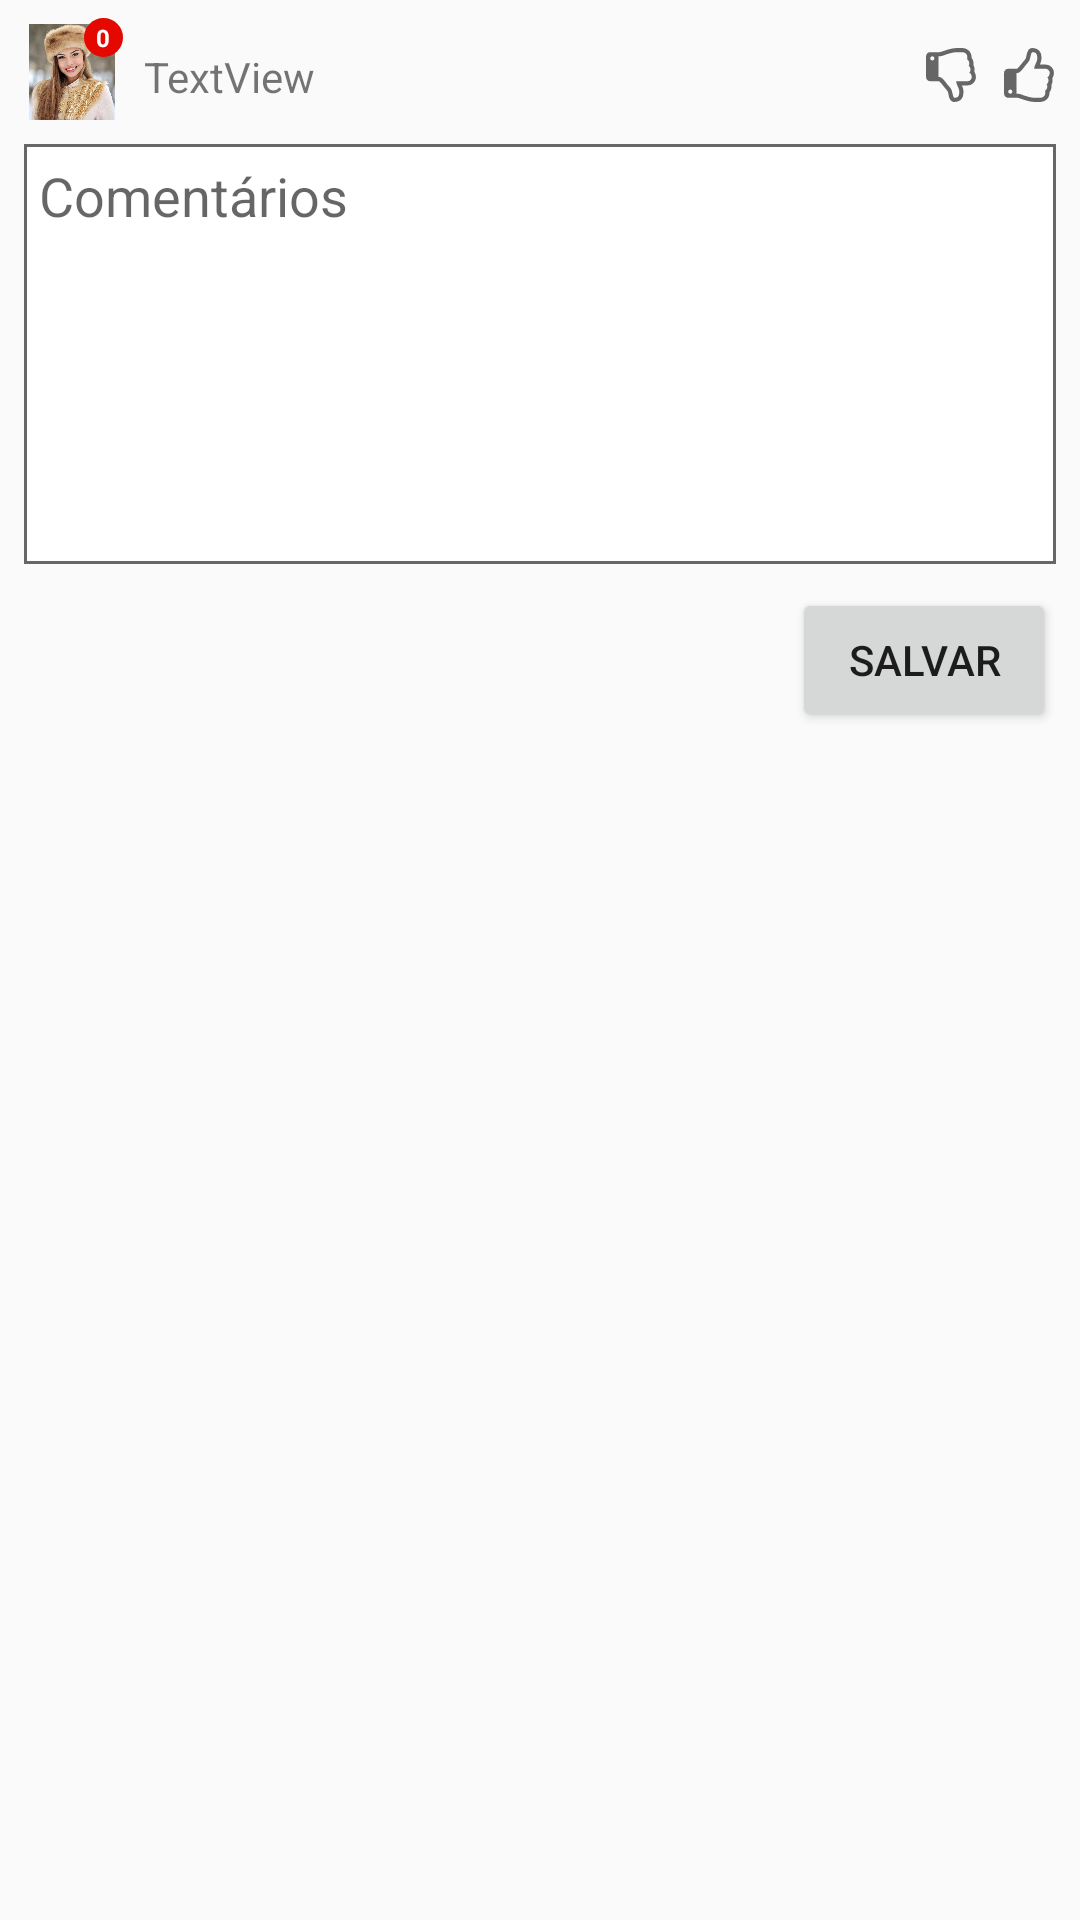

Screen size 1080*1920. Icon name, then its center in pixels as (x,y):
bad: (951,75)
thumbs up: (1029,75)
